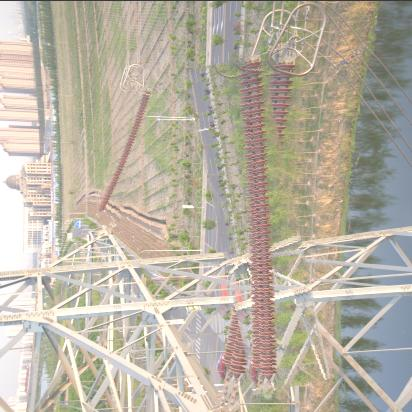insulator: (203, 56, 315, 392), (104, 84, 146, 223)
